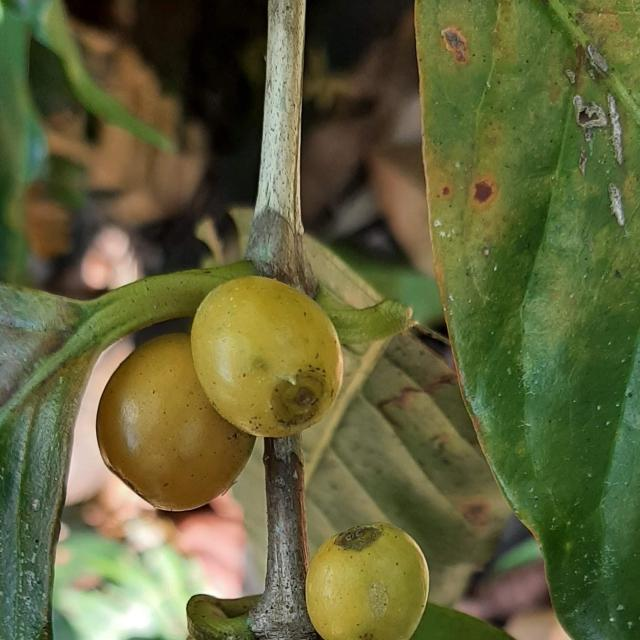red: (96, 333, 255, 512)
yellow: (190, 276, 343, 438), (306, 524, 429, 640)
